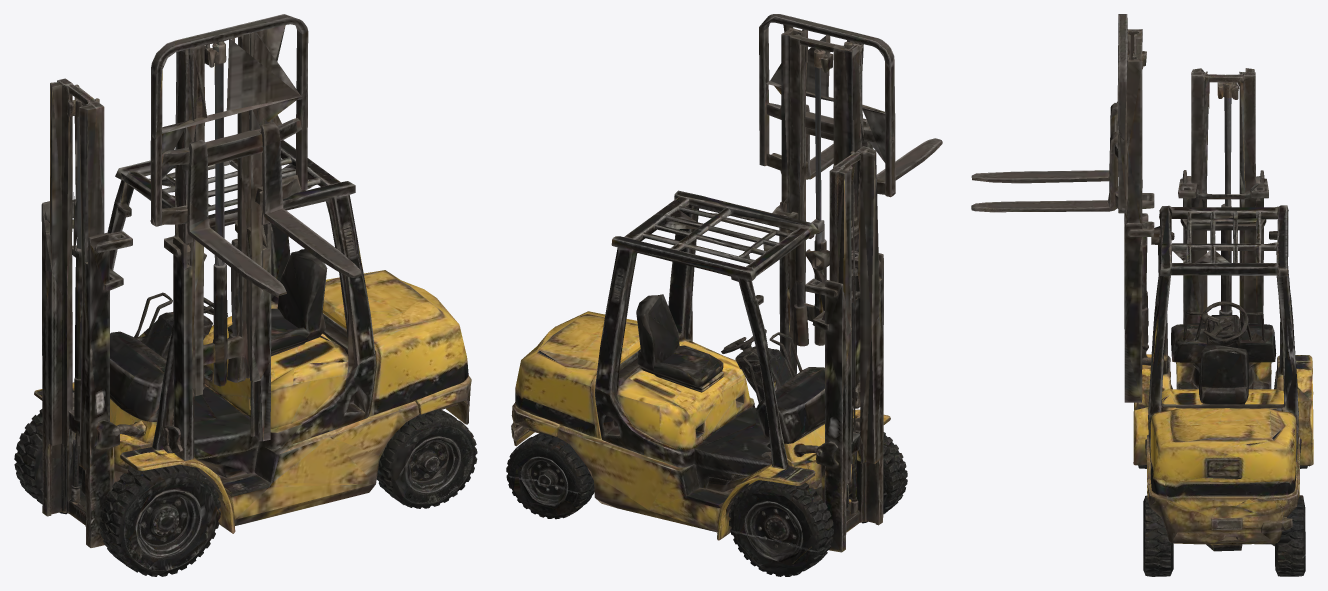
Rendered from fork.glb.
3 renders of one model, left to right at view 1: azimuth 30°, elevation 25°; view 2: azimuth 150°, elevation 25°; view 3: azimuth 270°, elevation 25°, orthographic. The views are drawn at different scales.
Visible parts, largest first — view 1: output_unwrapped; view 2: output_unwrapped; view 3: output_unwrapped.
Part boxes in pixels (left/top/right/bottom): output_unwrapped: left=14, top=14, right=477, bottom=576; output_unwrapped: left=506, top=14, right=942, bottom=576; output_unwrapped: left=971, top=14, right=1313, bottom=576.
Size of the model in its own units: 1.4 by 1.9 by 1.32.
Materials: 1 (1 with a texture image).
